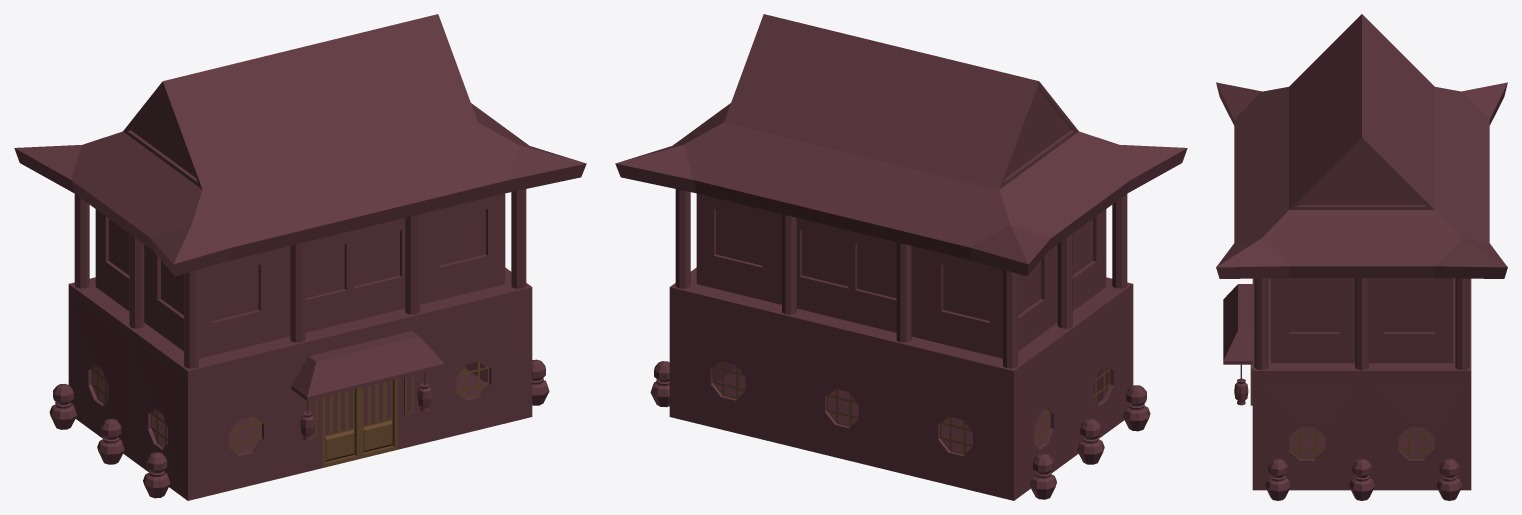
The model's file is building-antique-china.fbx.
The picture shows the model from 3 angles, left to right: view 1: azimuth 30°, elevation 25°; view 2: azimuth 150°, elevation 25°; view 3: azimuth 270°, elevation 25°; orthographic projection. The views are drawn at different scales.
Visible parts, largest first — view 1: building-antique-china; view 2: building-antique-china; view 3: building-antique-china.
Part boxes in pixels (x1,y1,x2,y2): building-antique-china: [14, 14, 586, 500]; building-antique-china: [615, 14, 1187, 500]; building-antique-china: [1216, 14, 1507, 500].
Bounding box in the file's own units: 12 × 10.2 × 8.
